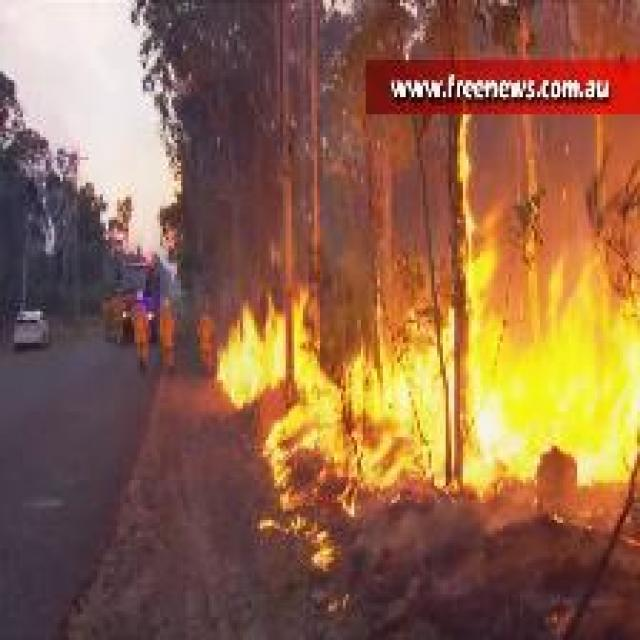Fire: (212, 188, 640, 574), (460, 110, 480, 236)
